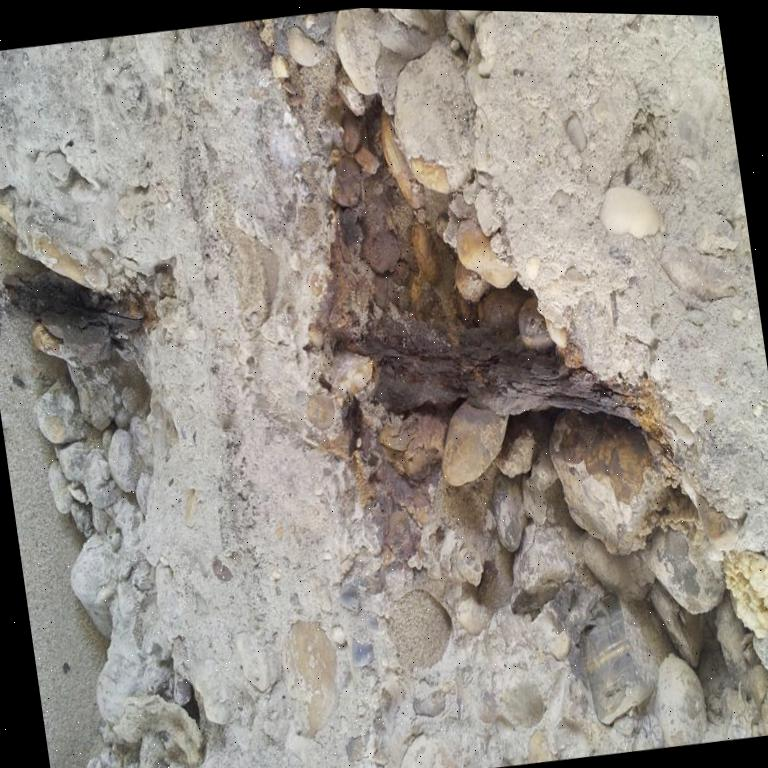spalling: (307, 98, 768, 750), (0, 219, 198, 768)
